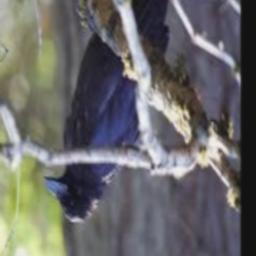Crow: (45, 0, 181, 224)
